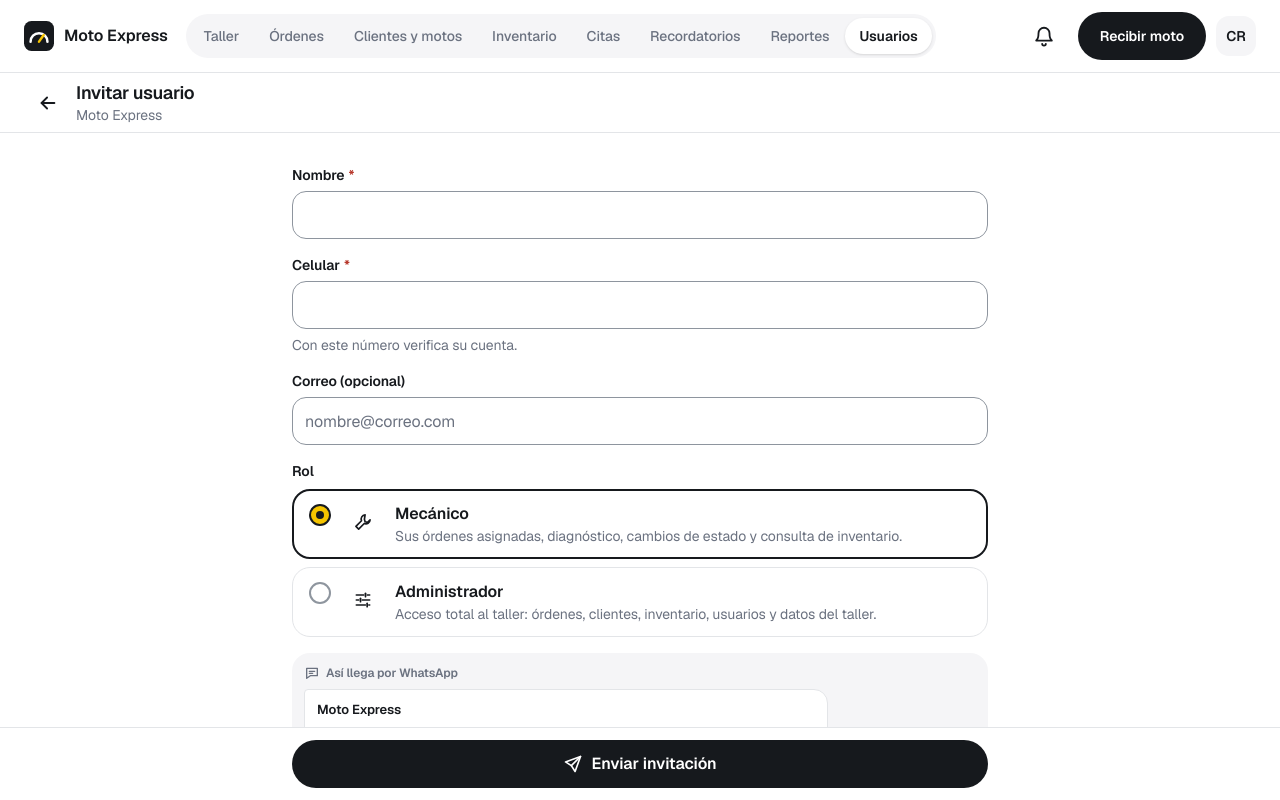
Test: HU-67 · Invitar usuarios › un correo ya registrado se marca en el campo correo
Type "Sebastián Gil" into the field labelled "Nombre*".
click(640, 215); type("Sebastián Gil")  # box left=292, top=191, right=988, bottom=239
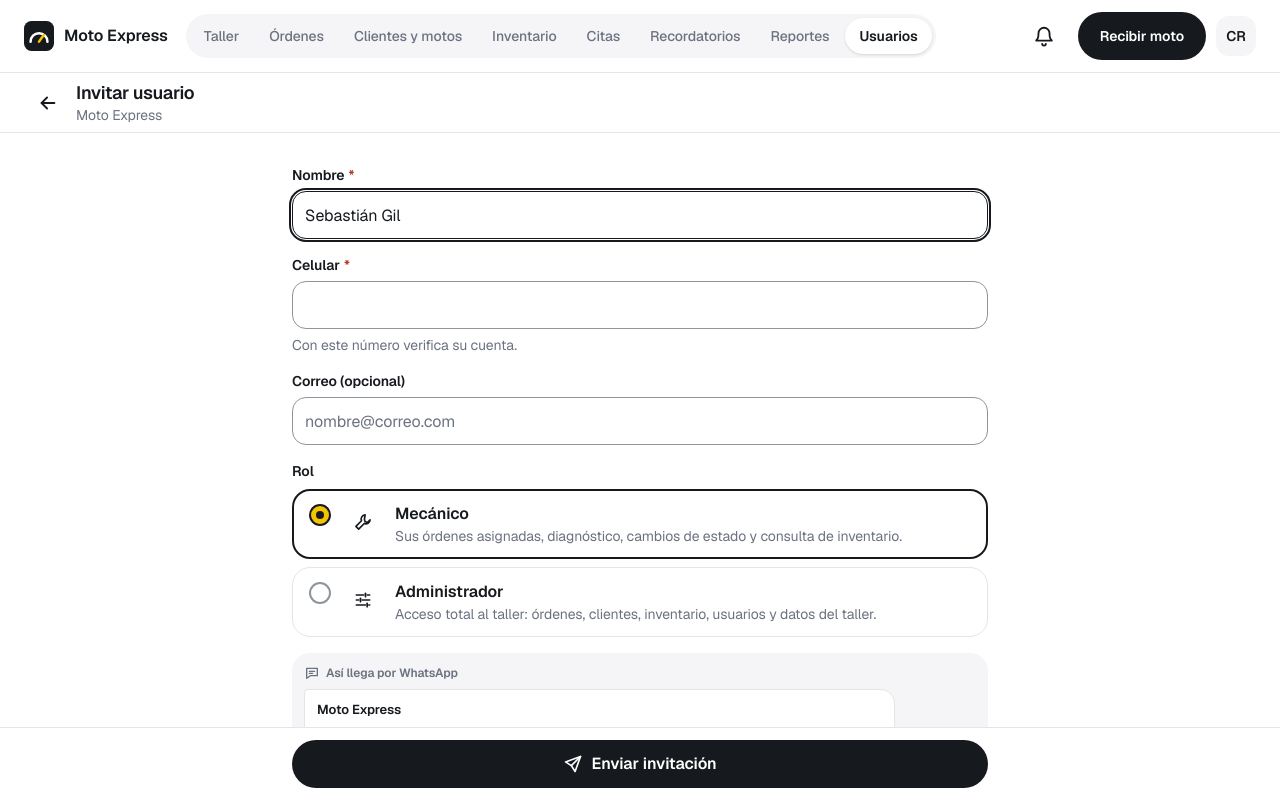
Type "3119024471" into the field labelled "Celular*".
click(640, 305); type("3119024471")  # box left=292, top=281, right=988, bottom=329
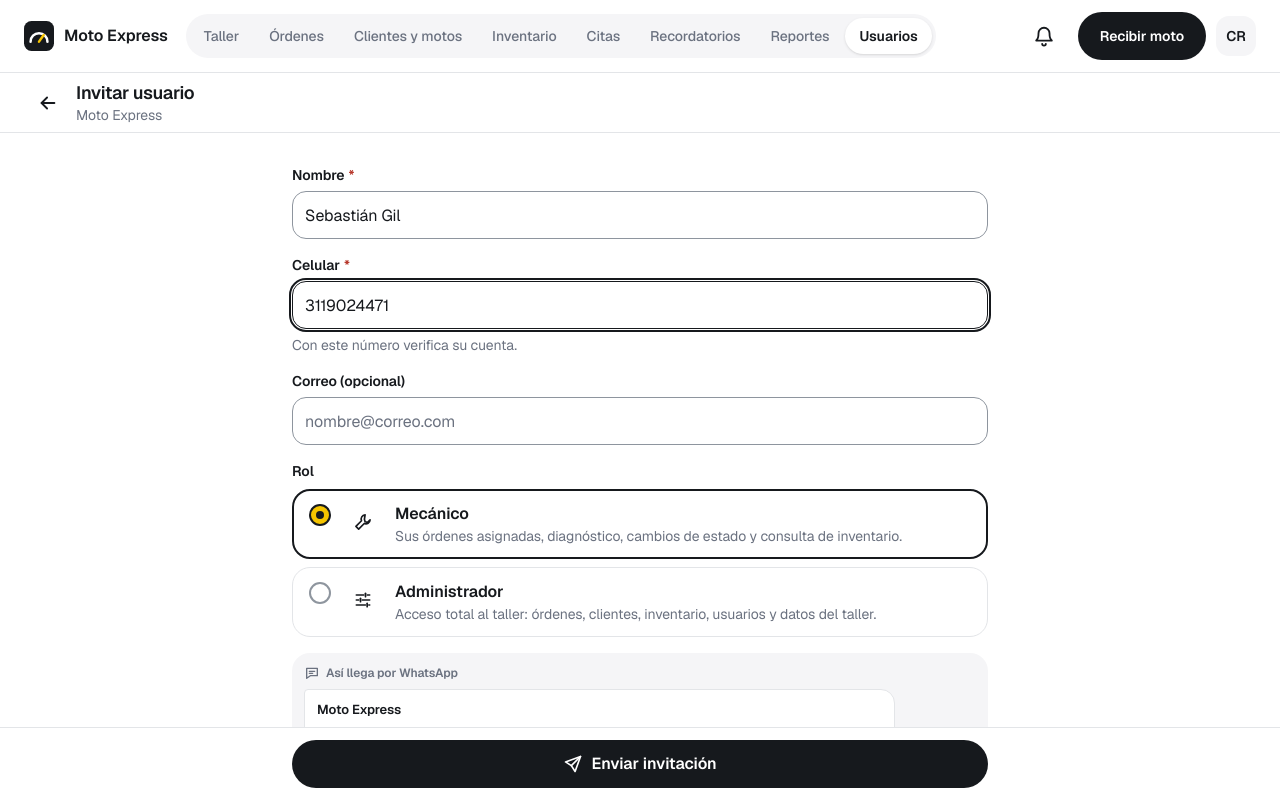
Type "admin@mototrack.co" into the field labelled "Correo (opcional)".
click(640, 421); type("admin@mototrack.co")  # box left=292, top=397, right=988, bottom=445
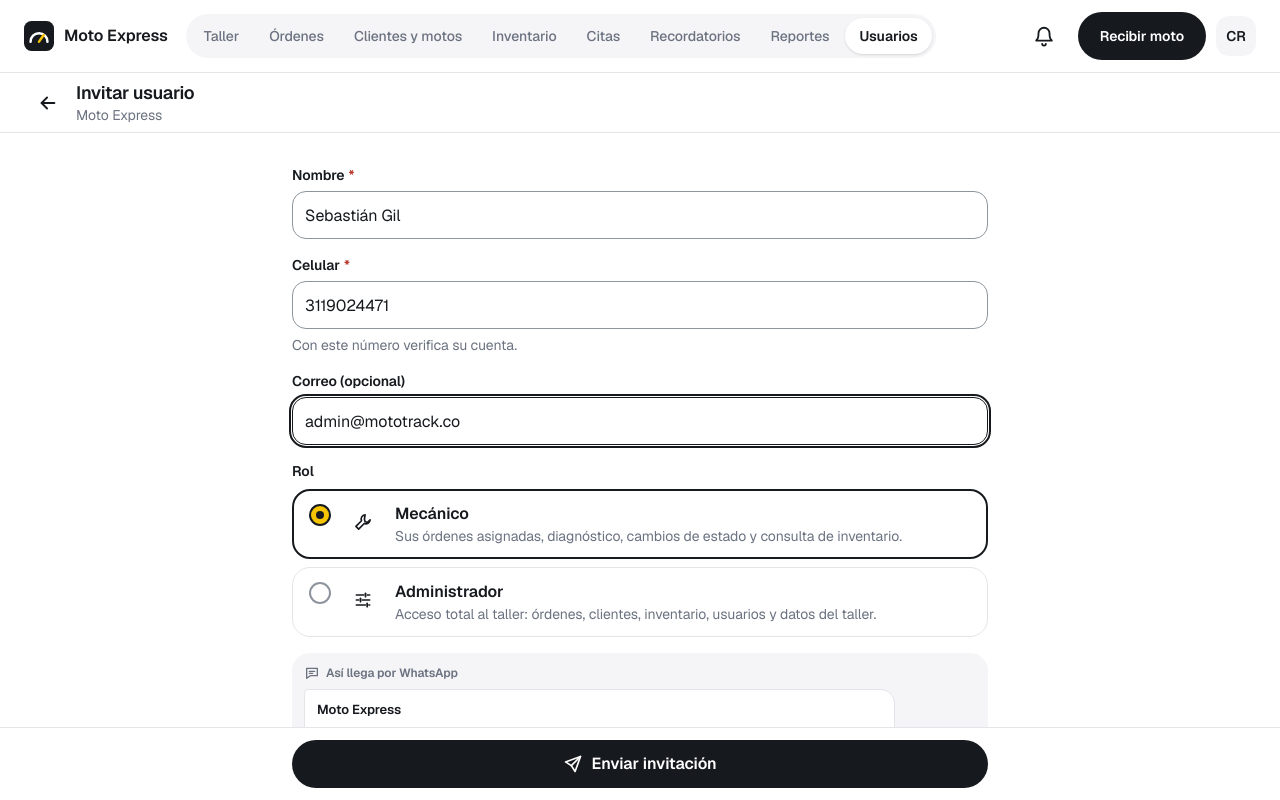
Click the button "Enviar invitación".
click(640, 764)  # box left=292, top=740, right=988, bottom=788
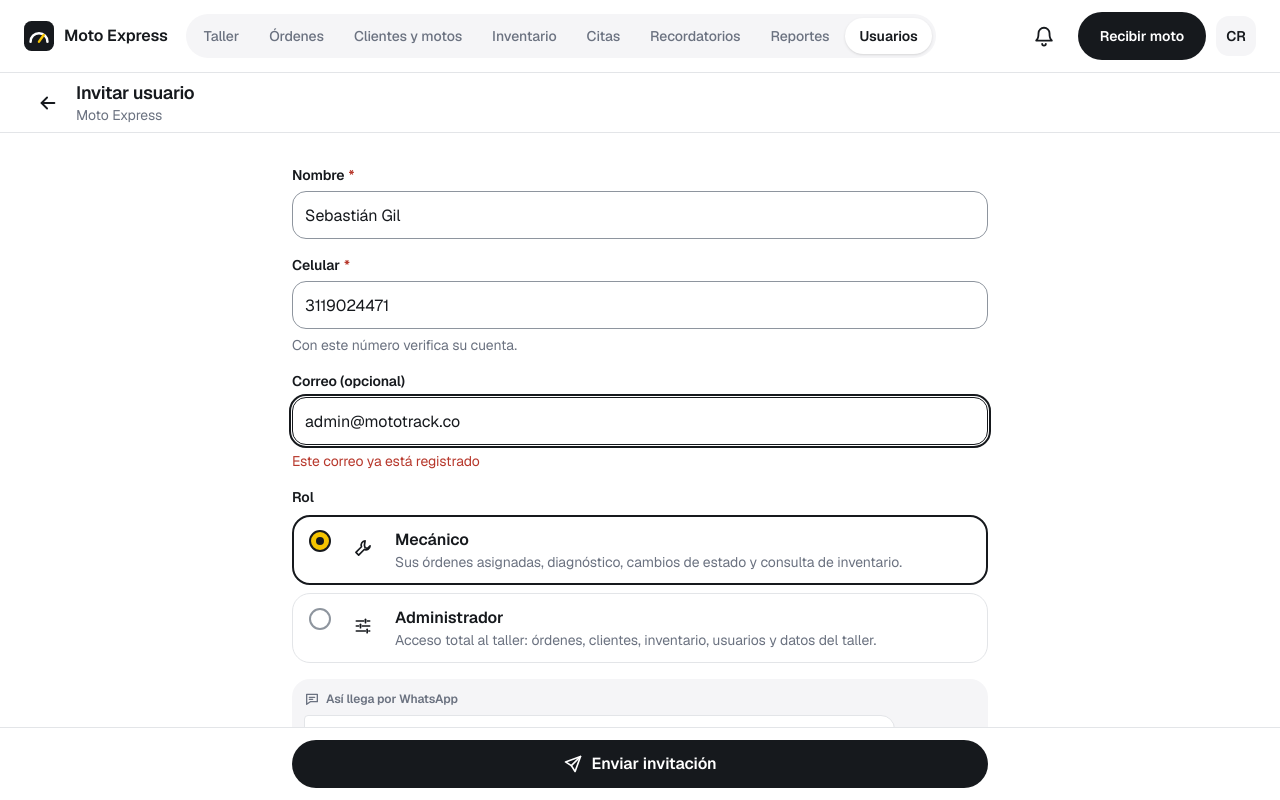
Check: the text "Este correo ya está registrado" is shown, box left=292, top=452, right=480, bottom=470
